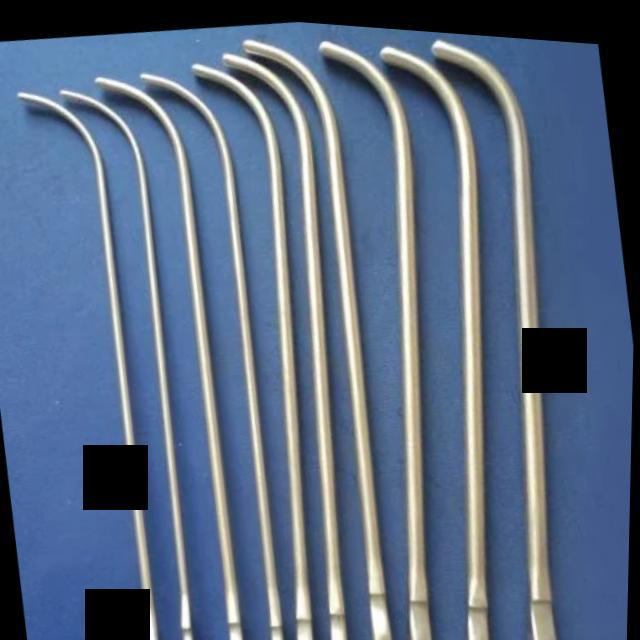Urethral Dilators: (284, 18, 500, 640), (217, 15, 427, 640), (156, 37, 370, 640), (70, 37, 276, 640), (346, 21, 546, 640), (119, 23, 312, 640), (422, 25, 614, 640), (4, 81, 188, 640), (56, 53, 221, 640)
